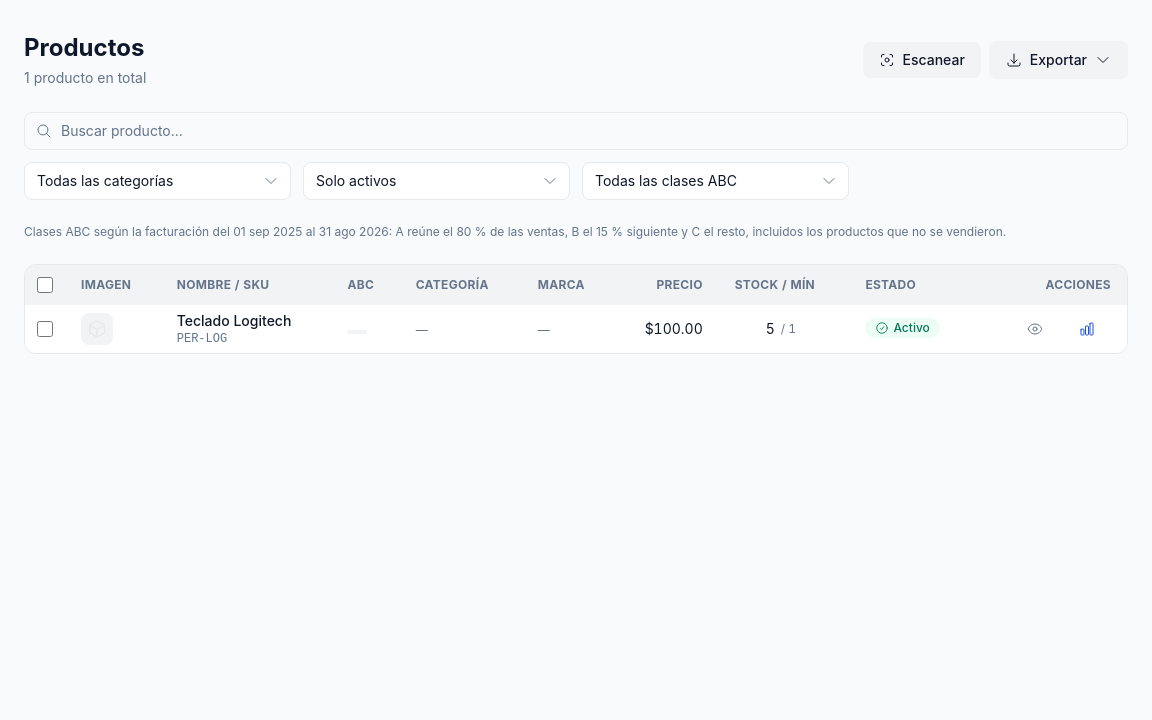
Test: ProductsPage — el rol de almacén (T5-13) › selecciona para ajustar stock en bloque o registrar un movimiento, pero no crea ni importa
What coordinates should you click on to do the following:
click the checkbox named "Seleccionar Teclado Logitech"
I would click on:
 (45, 329)
Its box is [37, 321, 53, 337].
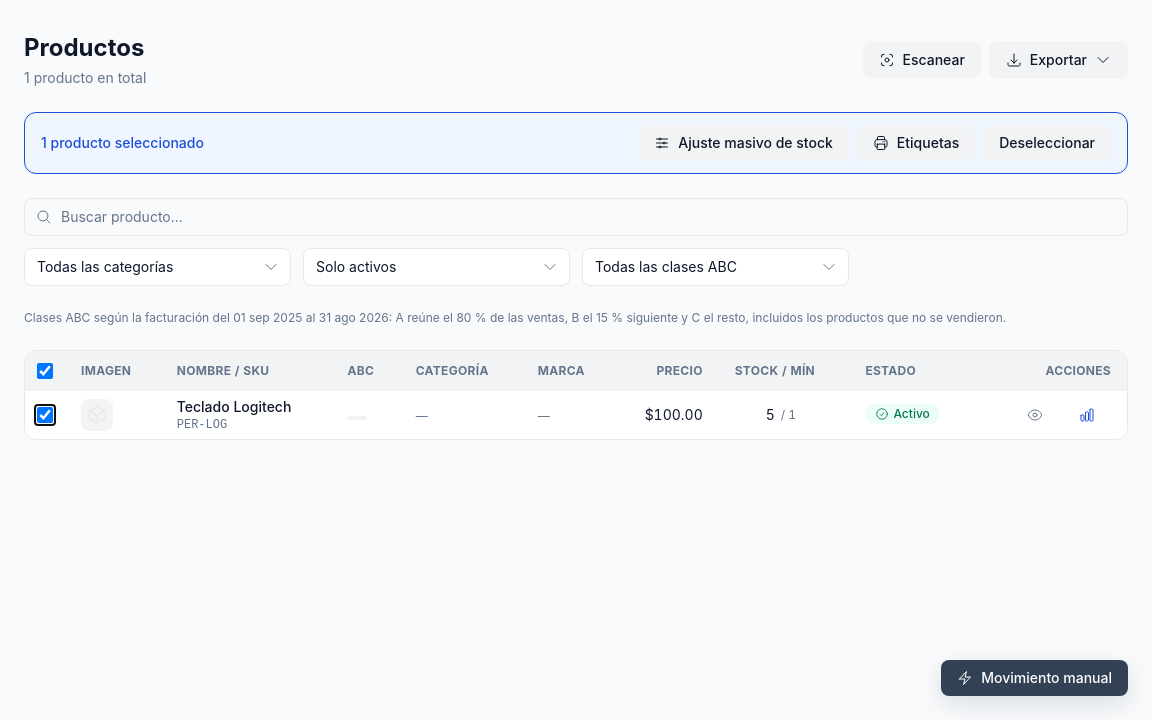
Result: the button "Ajuste masivo de stock" is shown at [638, 125, 849, 161]
Result: the button "Movimiento manual" is shown at [941, 660, 1128, 696]
